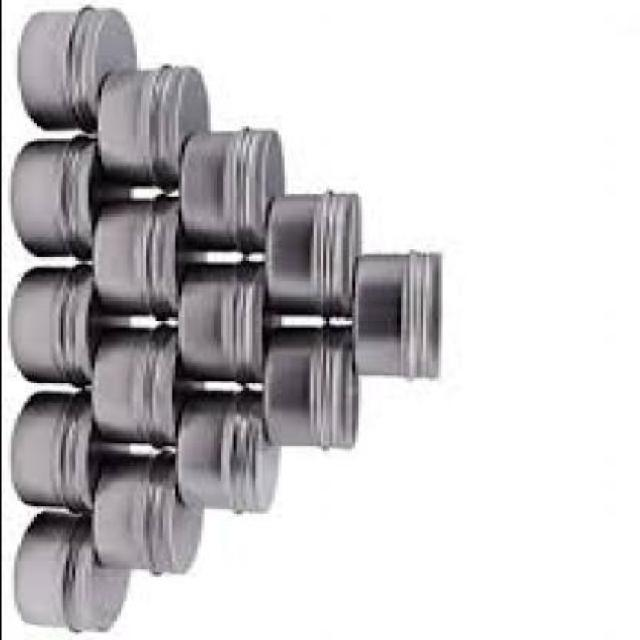METAL: (9, 270, 129, 390), (22, 11, 140, 131), (12, 143, 130, 260), (90, 326, 202, 448), (174, 264, 283, 388), (93, 454, 202, 577), (177, 131, 283, 257), (20, 516, 128, 635), (177, 393, 280, 516), (260, 324, 360, 450), (106, 71, 209, 189), (268, 196, 363, 322), (355, 254, 447, 383), (100, 202, 189, 320), (16, 395, 96, 514)
